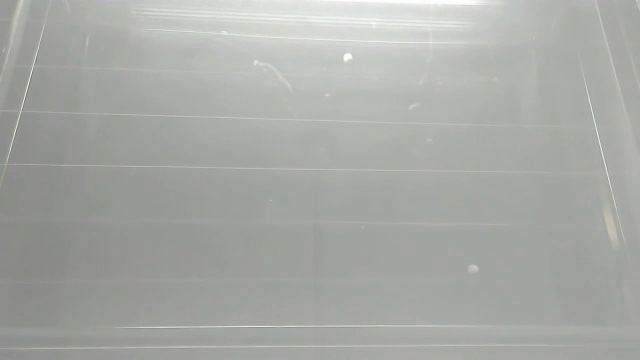alpha: (462, 261, 488, 278), (337, 48, 356, 65)
